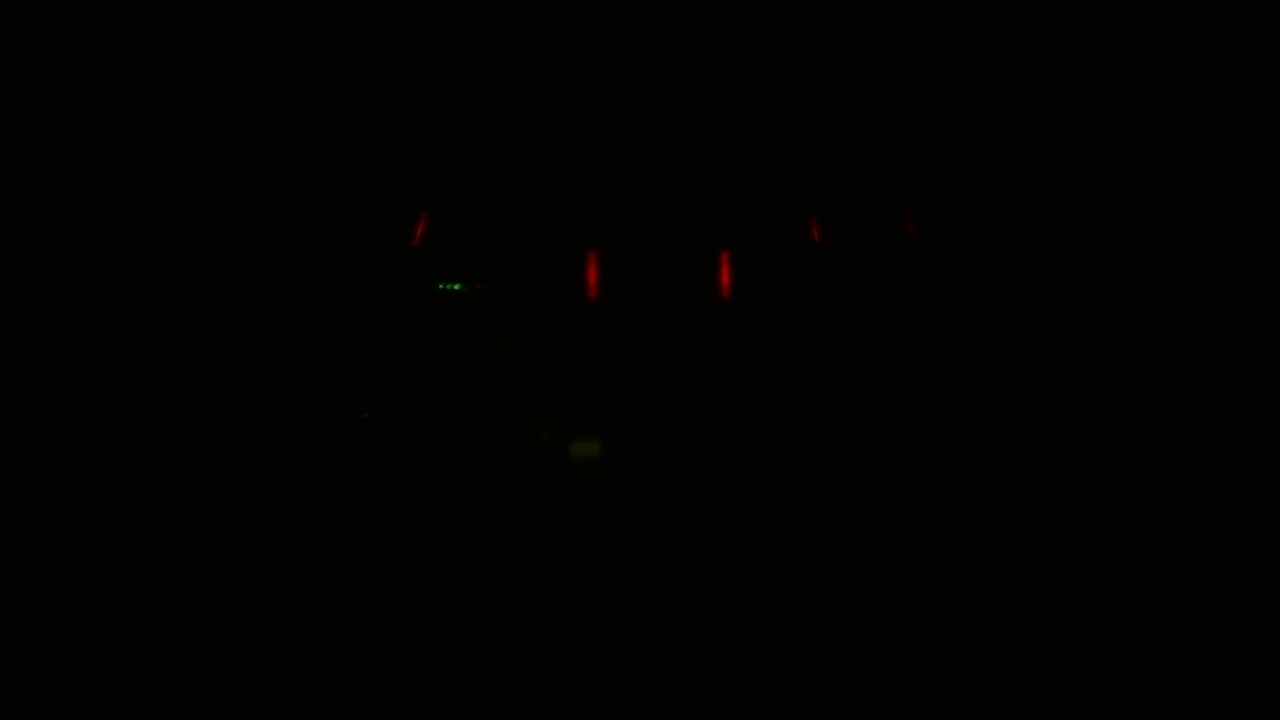pair1: (579, 243, 734, 301)
